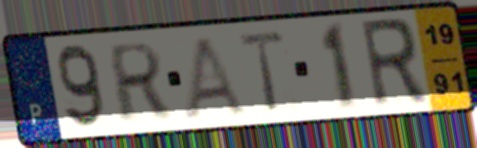1: (320, 19, 363, 115)
9: (56, 42, 107, 130)
A: (181, 33, 252, 119)
R: (357, 14, 432, 111), (108, 39, 172, 126)
T: (237, 28, 288, 115)
